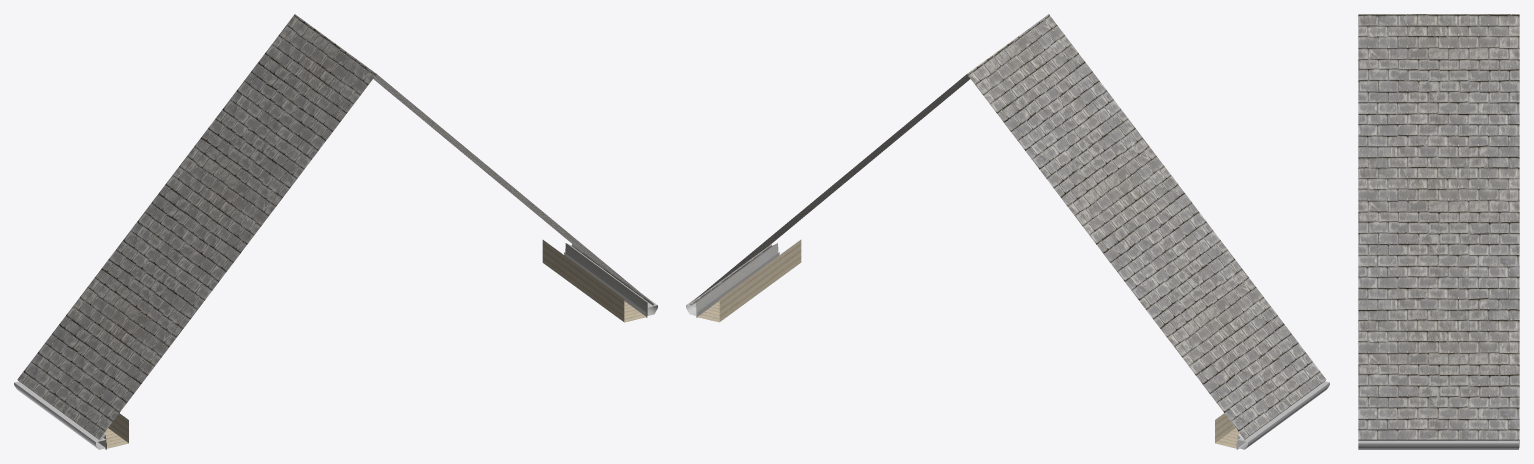
Rendered from Roof_7x.FBX.
3 views of the same model, side by side, from view 1: azimuth 30°, elevation 25°; view 2: azimuth 150°, elevation 25°; view 3: azimuth 270°, elevation 25° (orthographic).
Parts seen in each view (by area): view 1: Roof_7x; view 2: Roof_7x; view 3: Roof_7x.
Part boxes in pixels (x1=…): Roof_7x: x1=14, y1=14, x2=657, y2=449; Roof_7x: x1=686, y1=14, x2=1329, y2=449; Roof_7x: x1=1358, y1=14, x2=1519, y2=449.
Bounding box in the file's own units: 794 × 418 × 201.
